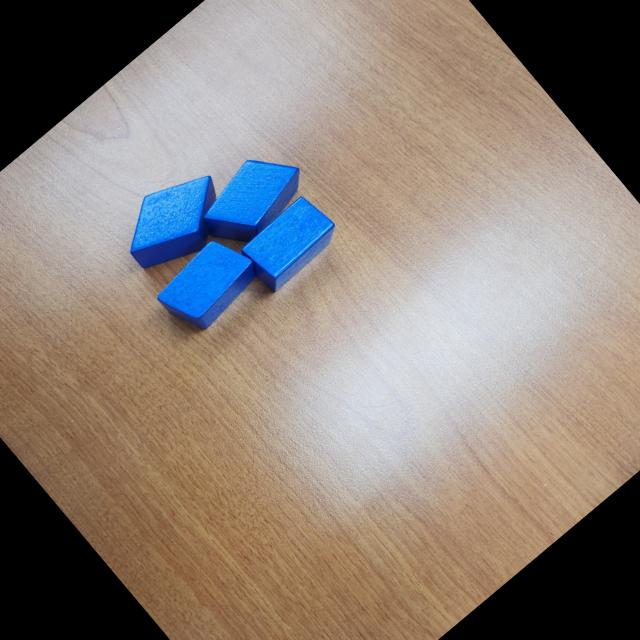blue: (106, 152, 245, 288), (190, 136, 316, 256), (150, 227, 270, 343), (234, 189, 344, 295)
